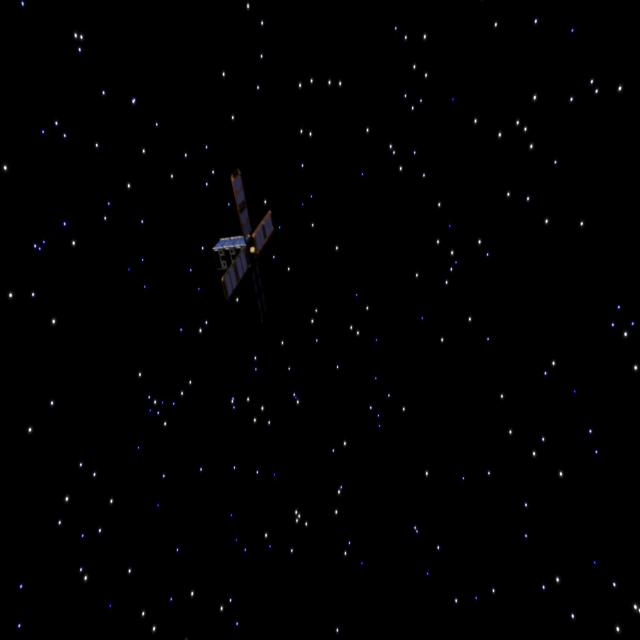medium_debris: (199, 164, 292, 332)
